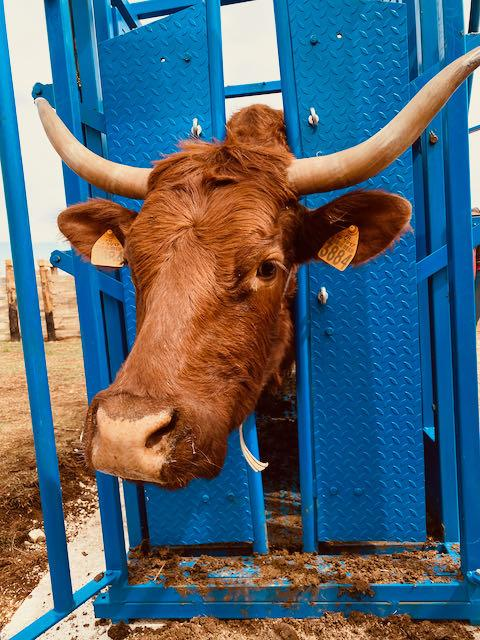muzzles: (72, 397, 230, 487)
